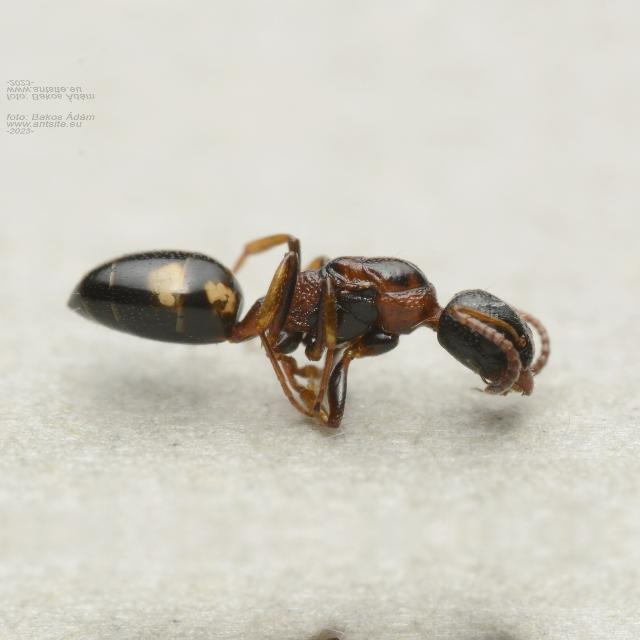Dolichoderus: (27, 208, 613, 434)
